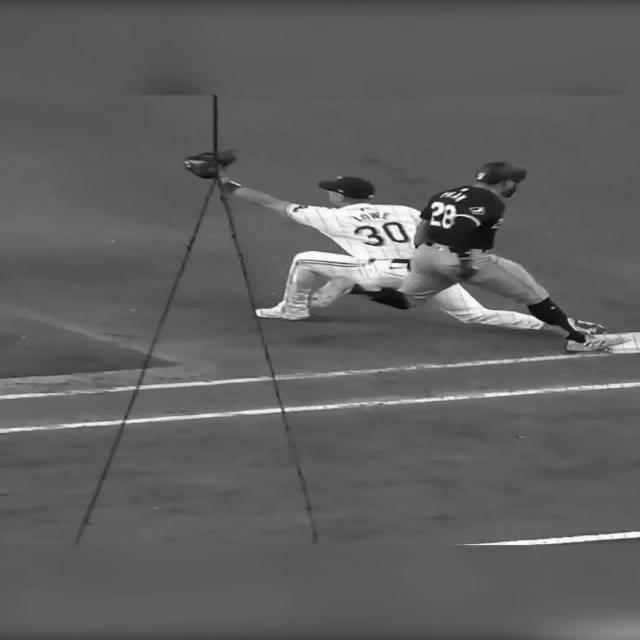base: (565, 332, 637, 352)
baseball_glove: (183, 149, 237, 178)
shoe: (254, 306, 310, 320), (565, 318, 607, 335)
